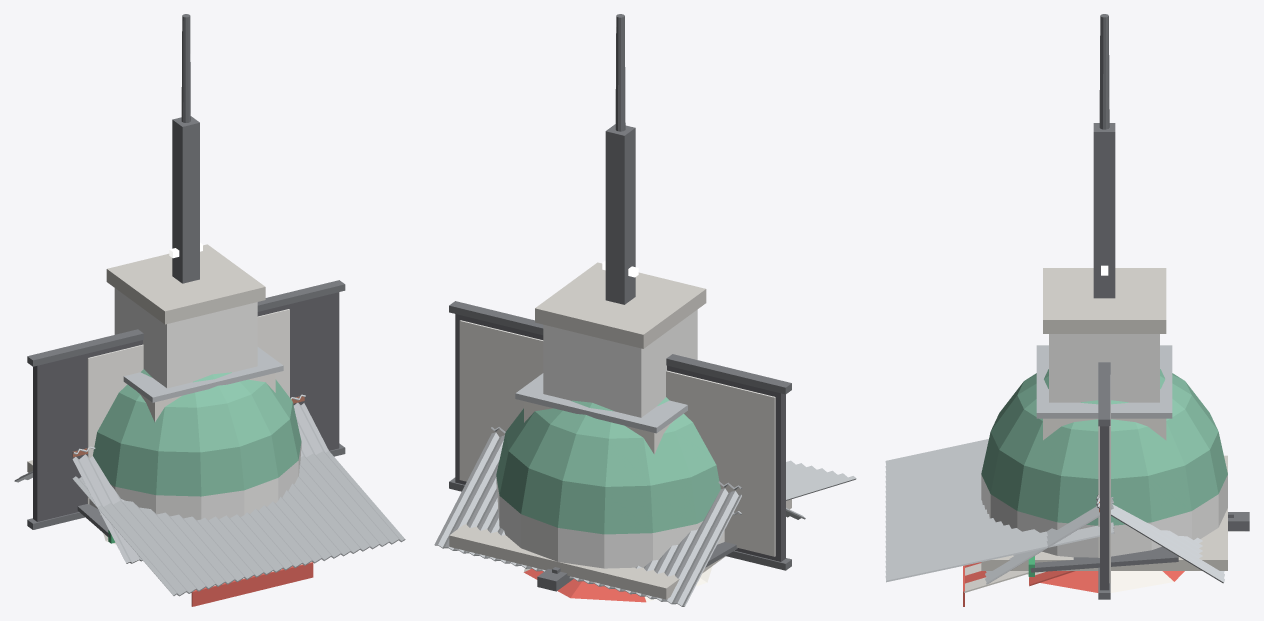
Rendered from Lagos-kit.glb.
The picture shows the model from 3 angles, left to right: view 1: azimuth 30°, elevation 25°; view 2: azimuth 150°, elevation 25°; view 3: azimuth 270°, elevation 25°; orthographic projection. The views are drawn at different scales.
Parts seen in each view (by area): view 1: KIT_dome, KIT_roof_shed_4, KIT_billboard_panel, KIT_minaret_seg, KIT_billboard_leg, KIT_roof_gable_4, KIT_kiosk_body, KIT_wall_plain, KIT_wall_open_door, KIT_awning_stall, KIT_wall_open_window, KIT_wall_open_shop (+1 smaller); view 2: KIT_dome, KIT_billboard_panel, KIT_minaret_seg, KIT_roof_gable_4, KIT_billboard_leg, KIT_slab, KIT_kiosk_body, KIT_roof_shed_4, KIT_umbrella_canopy, KIT_lamp_pole, KIT_lamp_arm; view 3: KIT_dome, KIT_minaret_seg, KIT_roof_shed_4, KIT_kiosk_body, KIT_billboard_leg, KIT_roof_gable_4, KIT_billboard_panel, KIT_slab, KIT_umbrella_canopy, KIT_shelter_roof, KIT_lamp_pole, KIT_awning_stall.
Boxes of the visible parts, left/top/right/bottom form: KIT_dome: left=89, top=369, right=301, bottom=520; KIT_roof_shed_4: left=72, top=451, right=405, bottom=596; KIT_billboard_panel: left=27, top=280, right=345, bottom=529; KIT_minaret_seg: left=106, top=244, right=265, bottom=388; KIT_billboard_leg: left=172, top=116, right=199, bottom=283; KIT_roof_gable_4: left=14, top=394, right=328, bottom=563; KIT_kiosk_body: left=123, top=347, right=283, bottom=422; KIT_wall_plain: left=87, top=309, right=289, bottom=504; KIT_wall_open_door: left=88, top=309, right=289, bottom=501; KIT_awning_stall: left=191, top=561, right=313, bottom=606; KIT_wall_open_window: left=88, top=309, right=289, bottom=502; KIT_wall_open_shop: left=88, top=309, right=289, bottom=501; KIT_dome: left=496, top=397, right=724, bottom=568; KIT_billboard_panel: left=449, top=301, right=791, bottom=570; KIT_minaret_seg: left=535, top=262, right=706, bottom=417; KIT_roof_gable_4: left=434, top=427, right=805, bottom=606; KIT_billboard_leg: left=605, top=124, right=635, bottom=304; KIT_slab: left=449, top=499, right=791, bottom=599; KIT_kiosk_body: left=515, top=373, right=687, bottom=454; KIT_roof_shed_4: left=733, top=460, right=856, bottom=515; KIT_umbrella_canopy: left=523, top=566, right=712, bottom=602; KIT_lamp_pole: left=615, top=14, right=625, bottom=131; KIT_lamp_arm: left=537, top=567, right=573, bottom=591; KIT_dome: left=981, top=369, right=1227, bottom=557; KIT_minaret_seg: left=1043, top=268, right=1166, bottom=402; KIT_roof_shed_4: left=885, top=439, right=1114, bottom=582; KIT_kiosk_body: left=1036, top=345, right=1172, bottom=440; KIT_billboard_leg: left=1093, top=123, right=1115, bottom=298; KIT_roof_gable_4: left=985, top=494, right=1224, bottom=584; KIT_billboard_panel: left=1098, top=362, right=1110, bottom=599; KIT_slab: left=981, top=455, right=1227, bottom=570; KIT_umbrella_canopy: left=1027, top=571, right=1184, bottom=592; KIT_shelter_roof: left=1028, top=546, right=1178, bottom=576; KIT_lamp_pole: left=1099, top=14, right=1109, bottom=129; KIT_awning_stall: left=963, top=562, right=1028, bottom=606.
Size of the model in its own units: 6.2 by 10.05 by 5.9.
